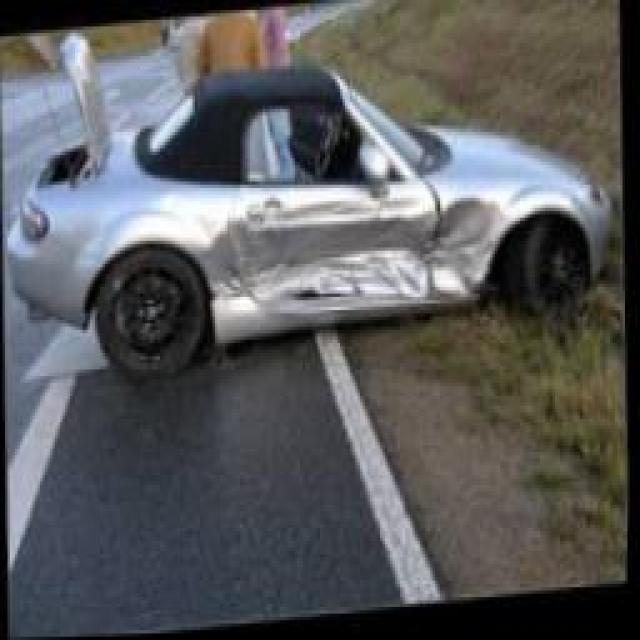Door: (230, 165, 453, 337)
Fender: (48, 172, 227, 266), (428, 178, 507, 316), (500, 172, 588, 214)
